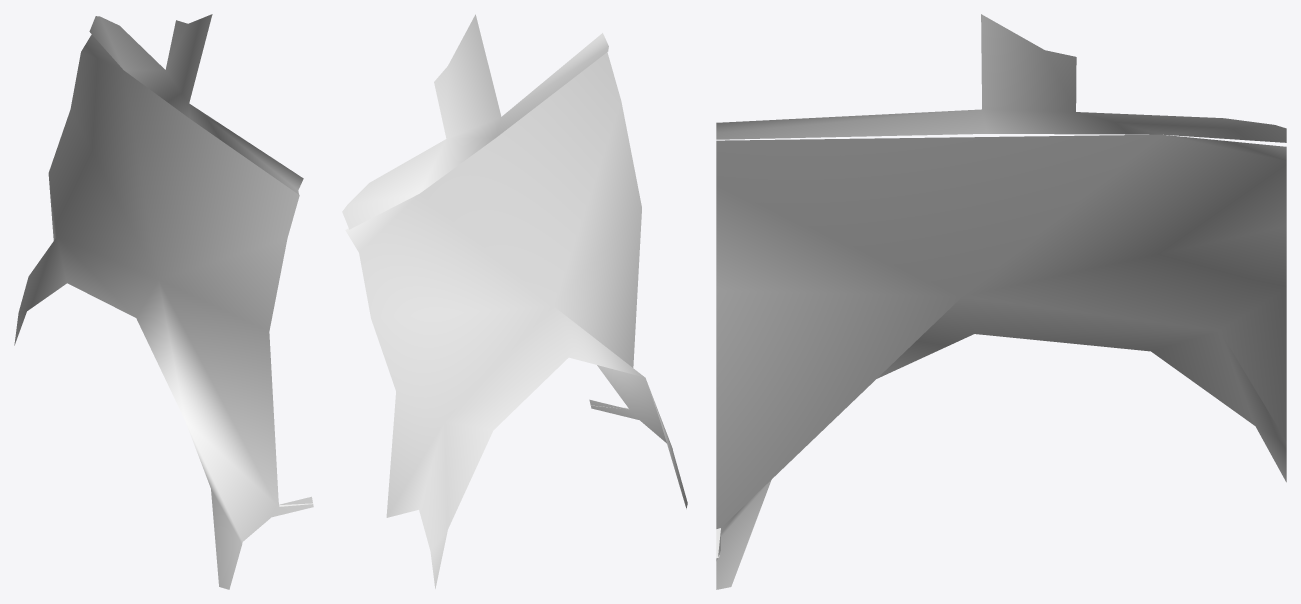
3 renders of one model, left to right at view 1: azimuth 30°, elevation 25°; view 2: azimuth 150°, elevation 25°; view 3: azimuth 270°, elevation 25°, orthographic. The views are drawn at different scales.
Bounding box in the file's own units: 0.3141 × 1.63 × 1.33.
1 material, 1 textured.
